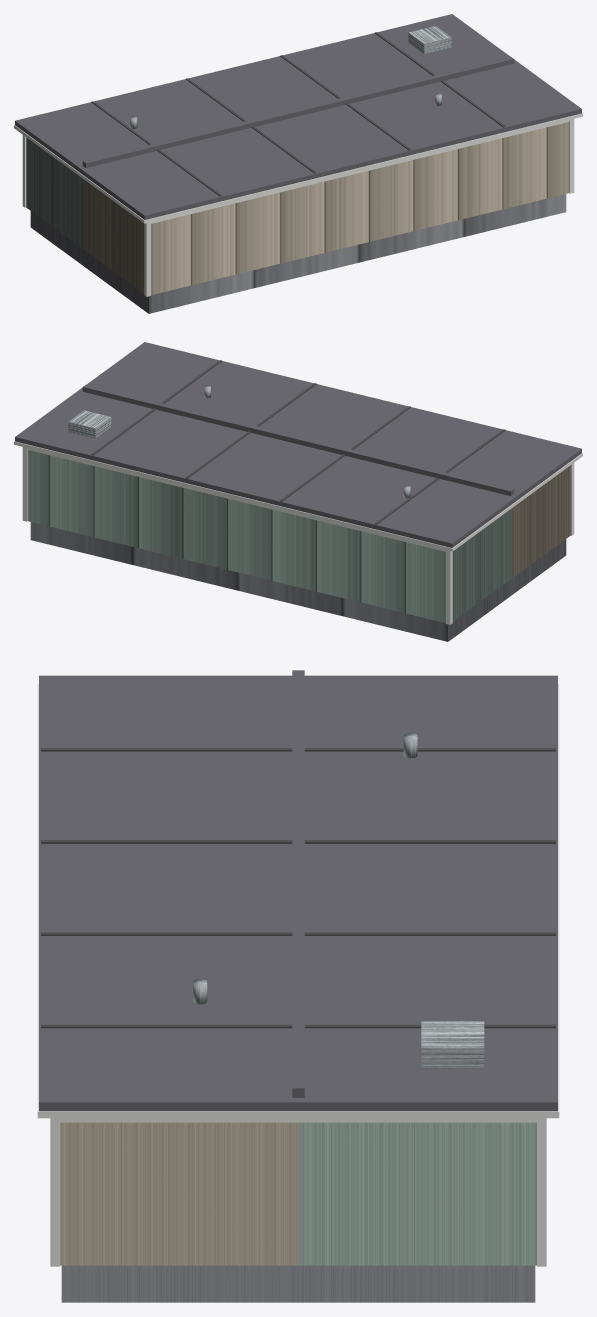
File: WK_ARCH_Trailer_C_Double.glb
3 renders of one model, top to bottom at view 1: azimuth 30°, elevation 25°; view 2: azimuth 150°, elevation 25°; view 3: azimuth 270°, elevation 25°, orthographic. The views are drawn at different scales.
Parts seen in each view (by area): view 1: WK_ARCH_Trailer_C_Double_P03, WK_ARCH_Trailer_C_Double_P01, WK_ARCH_Trailer_C_Double_P06, WK_ARCH_Trailer_C_Double_P02, WK_ARCH_Trailer_C_Double_P05, WK_ARCH_Trailer_C_Double_P04, WK_ARCH_Trailer_C_Double_P07, WK_ARCH_Trailer_C_Double_P29, WK_ARCH_Trailer_C_Double_P08, WK_ARCH_Trailer_C_Double_P25, WK_ARCH_Trailer_C_Double_P10, WK_ARCH_Trailer_C_Double_P24 (+2 smaller); view 2: WK_ARCH_Trailer_C_Double_P03, WK_ARCH_Trailer_C_Double_P02, WK_ARCH_Trailer_C_Double_P06, WK_ARCH_Trailer_C_Double_P01, WK_ARCH_Trailer_C_Double_P05, WK_ARCH_Trailer_C_Double_P04, WK_ARCH_Trailer_C_Double_P07, WK_ARCH_Trailer_C_Double_P29, WK_ARCH_Trailer_C_Double_P09, WK_ARCH_Trailer_C_Double_P25, WK_ARCH_Trailer_C_Double_P11, WK_ARCH_Trailer_C_Double_P24 (+2 smaller); view 3: WK_ARCH_Trailer_C_Double_P03, WK_ARCH_Trailer_C_Double_P01, WK_ARCH_Trailer_C_Double_P02, WK_ARCH_Trailer_C_Double_P06, WK_ARCH_Trailer_C_Double_P04, WK_ARCH_Trailer_C_Double_P05, WK_ARCH_Trailer_C_Double_P29, WK_ARCH_Trailer_C_Double_P07, WK_ARCH_Trailer_C_Double_P26, WK_ARCH_Trailer_C_Double_P24, WK_ARCH_Trailer_C_Double_P25, WK_ARCH_Trailer_C_Double_P23 (+2 smaller).
Part boxes in pixels (box(x1,y1,x2,y2)): WK_ARCH_Trailer_C_Double_P03: box(15, 14, 581, 219); WK_ARCH_Trailer_C_Double_P01: box(86, 122, 569, 294); WK_ARCH_Trailer_C_Double_P06: box(30, 194, 566, 313); WK_ARCH_Trailer_C_Double_P02: box(26, 137, 85, 250); WK_ARCH_Trailer_C_Double_P05: box(82, 56, 514, 167); WK_ARCH_Trailer_C_Double_P04: box(14, 113, 582, 223); WK_ARCH_Trailer_C_Double_P07: box(151, 120, 569, 223); WK_ARCH_Trailer_C_Double_P29: box(408, 26, 451, 53); WK_ARCH_Trailer_C_Double_P08: box(144, 222, 150, 296); WK_ARCH_Trailer_C_Double_P25: box(280, 55, 410, 150); WK_ARCH_Trailer_C_Double_P10: box(569, 119, 574, 193); WK_ARCH_Trailer_C_Double_P24: box(186, 78, 316, 173); WK_ARCH_Trailer_C_Double_P03: box(15, 342, 581, 547); WK_ARCH_Trailer_C_Double_P02: box(27, 450, 510, 622); WK_ARCH_Trailer_C_Double_P06: box(30, 522, 566, 641); WK_ARCH_Trailer_C_Double_P01: box(511, 465, 570, 578); WK_ARCH_Trailer_C_Double_P05: box(82, 384, 514, 495); WK_ARCH_Trailer_C_Double_P04: box(14, 441, 582, 551); WK_ARCH_Trailer_C_Double_P07: box(27, 448, 445, 551); WK_ARCH_Trailer_C_Double_P29: box(68, 410, 111, 438); WK_ARCH_Trailer_C_Double_P09: box(446, 550, 452, 624); WK_ARCH_Trailer_C_Double_P25: box(186, 383, 316, 478); WK_ARCH_Trailer_C_Double_P11: box(22, 447, 27, 521); WK_ARCH_Trailer_C_Double_P24: box(280, 406, 410, 501); WK_ARCH_Trailer_C_Double_P03: box(39, 675, 557, 1111); WK_ARCH_Trailer_C_Double_P01: box(60, 1122, 298, 1265); WK_ARCH_Trailer_C_Double_P02: box(298, 1122, 536, 1265); WK_ARCH_Trailer_C_Double_P06: box(61, 1265, 535, 1302); WK_ARCH_Trailer_C_Double_P04: box(37, 684, 559, 1118); WK_ARCH_Trailer_C_Double_P05: box(292, 670, 304, 1097); WK_ARCH_Trailer_C_Double_P29: box(421, 1021, 484, 1068); WK_ARCH_Trailer_C_Double_P07: box(60, 1118, 536, 1122); WK_ARCH_Trailer_C_Double_P26: box(41, 1024, 555, 1028); WK_ARCH_Trailer_C_Double_P24: box(41, 840, 555, 843); WK_ARCH_Trailer_C_Double_P25: box(41, 932, 555, 935); WK_ARCH_Trailer_C_Double_P23: box(41, 748, 555, 751).
Size of the model in its own units: 14.44 by 3.62 by 7.44.
8 materials, 4 textured.
